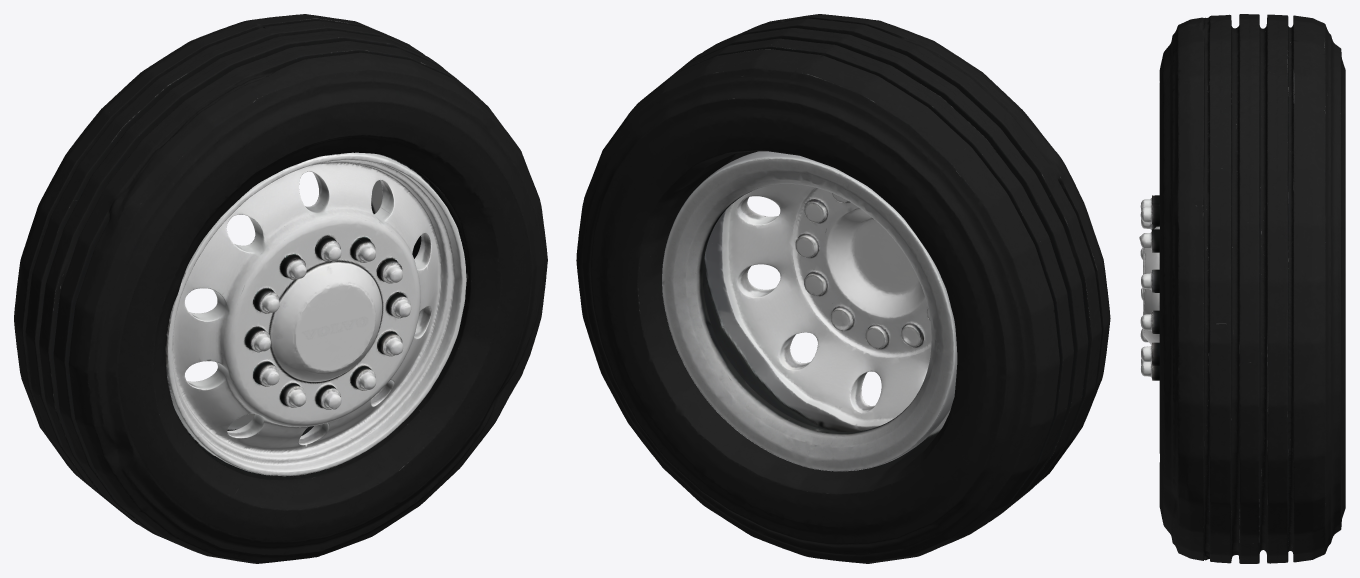
The model's file is rueda.glb.
3 views of the same model, side by side, from view 1: azimuth 30°, elevation 25°; view 2: azimuth 150°, elevation 25°; view 3: azimuth 270°, elevation 25° (orthographic).
Size of the model in its own units: 1.9 by 1.9 by 0.7123.
Materials: 1 (1 with a texture image).
